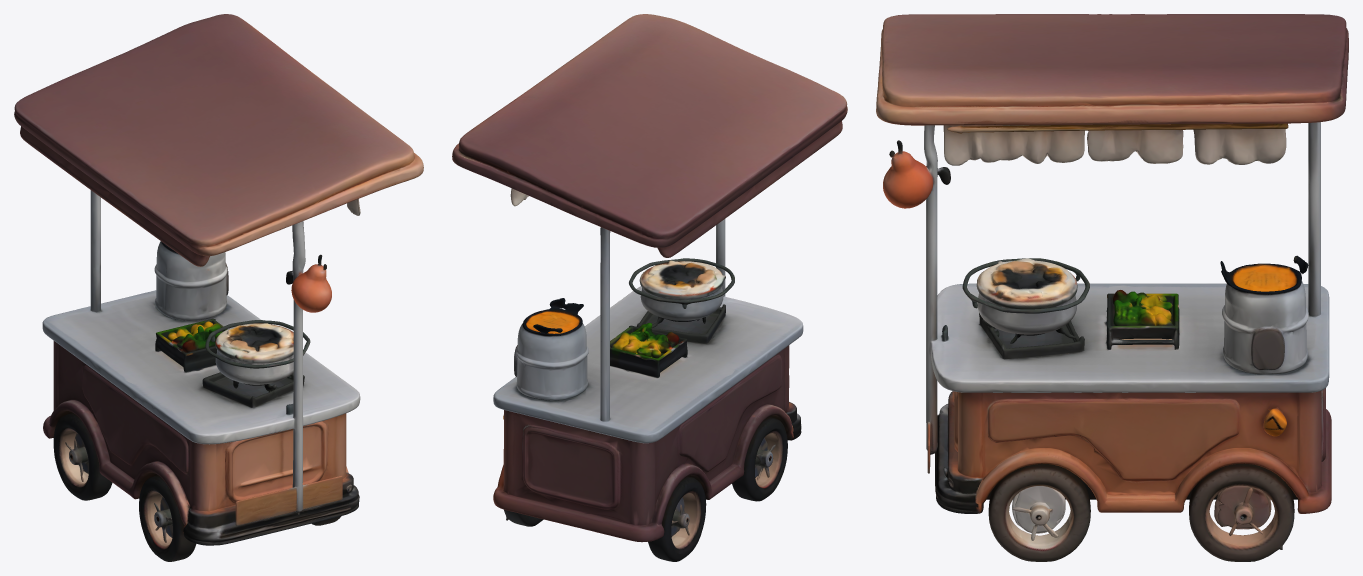
Rendered from prop-street-seller-cart.glb.
3 renders of one model, left to right at view 1: azimuth 30°, elevation 25°; view 2: azimuth 150°, elevation 25°; view 3: azimuth 270°, elevation 25°, orthographic. The views are drawn at different scales.
Parts seen in each view (by area): view 1: tripo_node_3a094831-9d72-4b96-9de3-d997d9aa7e5f; view 2: tripo_node_3a094831-9d72-4b96-9de3-d997d9aa7e5f; view 3: tripo_node_3a094831-9d72-4b96-9de3-d997d9aa7e5f.
Boxes of the visible parts, x1,y1,x2,y2 form: tripo_node_3a094831-9d72-4b96-9de3-d997d9aa7e5f: (14,14,423,561); tripo_node_3a094831-9d72-4b96-9de3-d997d9aa7e5f: (452,14,847,561); tripo_node_3a094831-9d72-4b96-9de3-d997d9aa7e5f: (876,14,1348,561).
Size of the model in its own units: 1.47 by 2.5 by 2.19.
Materials: 1 (1 with a texture image).
